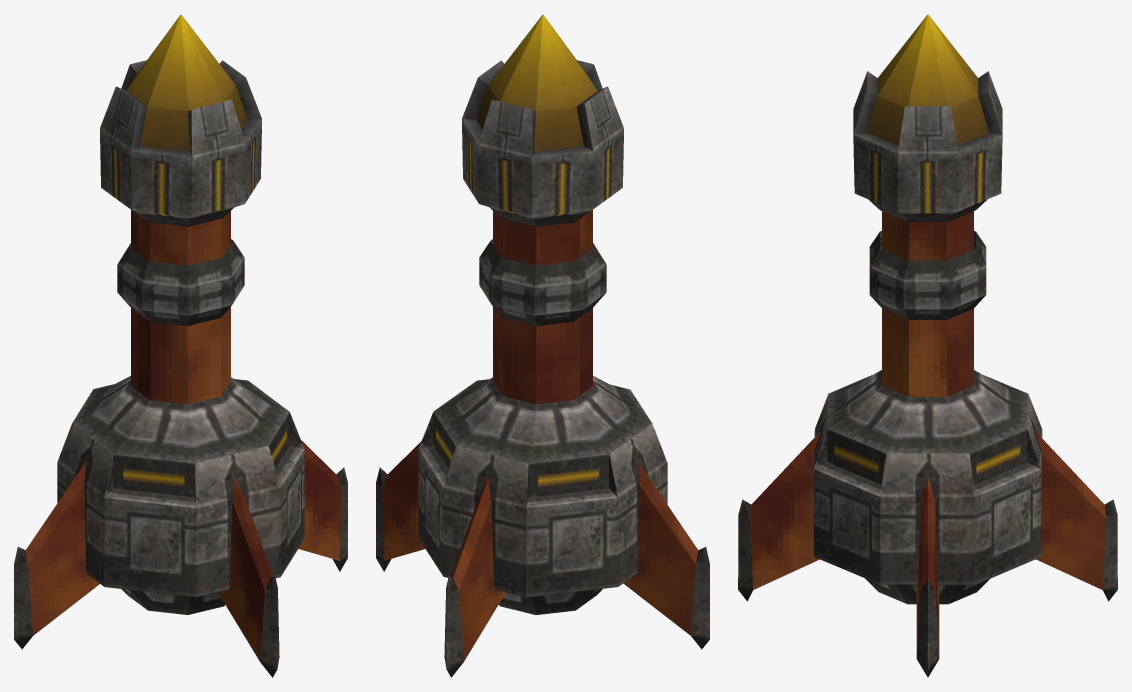
The model's file is Missile Launcher & Missile Expansion.obj.
3 views of the same model, side by side, from view 1: azimuth 30°, elevation 25°; view 2: azimuth 150°, elevation 25°; view 3: azimuth 270°, elevation 25° (orthographic).
Visible parts, largest first — view 1: 2d7e6590_CMDL; view 2: 2d7e6590_CMDL; view 3: 2d7e6590_CMDL.
Boxes of the visible parts, <box> form: 2d7e6590_CMDL: <box>14,14,347,677</box>; 2d7e6590_CMDL: <box>376,14,709,677</box>; 2d7e6590_CMDL: <box>738,14,1117,677</box>.
Bounding box in the file's own units: 0.7472 × 1.28 × 0.7472.
Materials: 2 (2 with a texture image).
